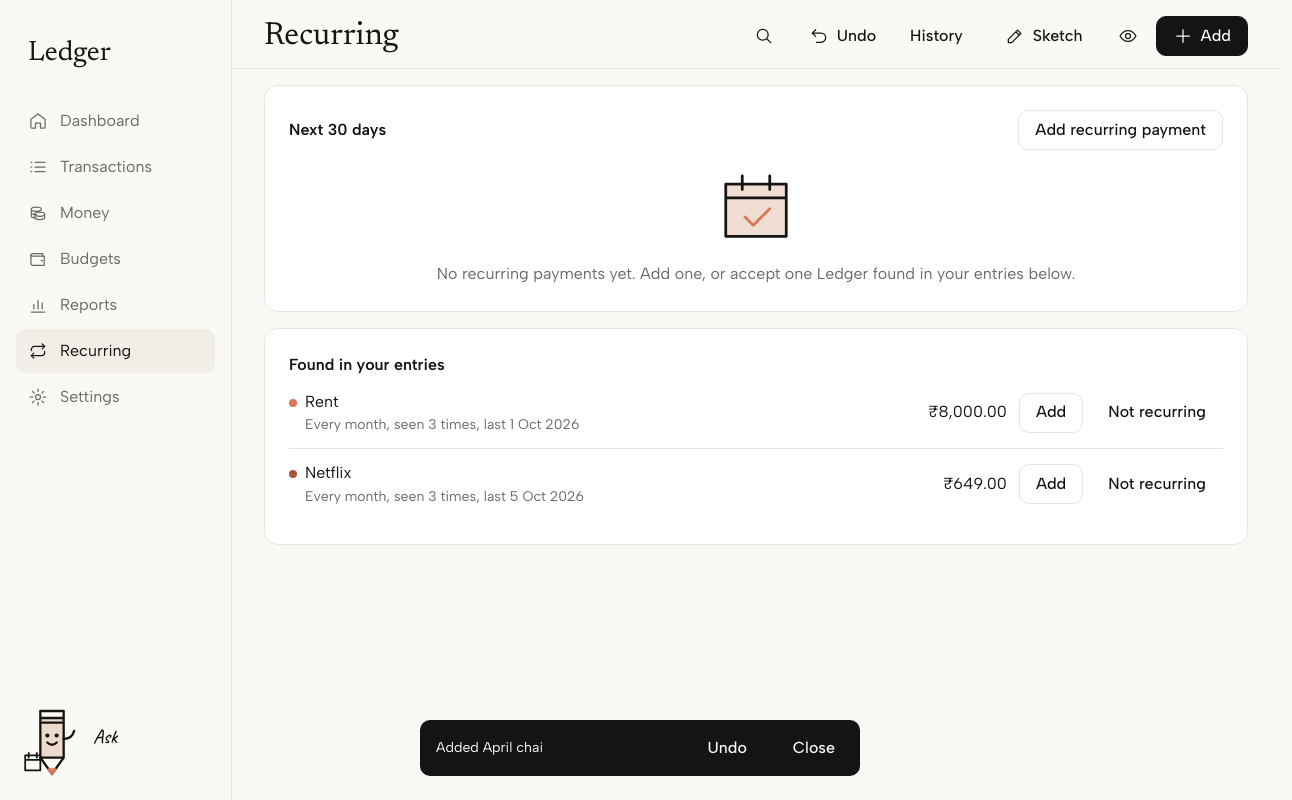
Scenario: recurring › stops suggesting a merchant marked not recurring
Click the button "Not recurring" in the row of "Rent" at (1157, 413), box [1091,393,1223,433]
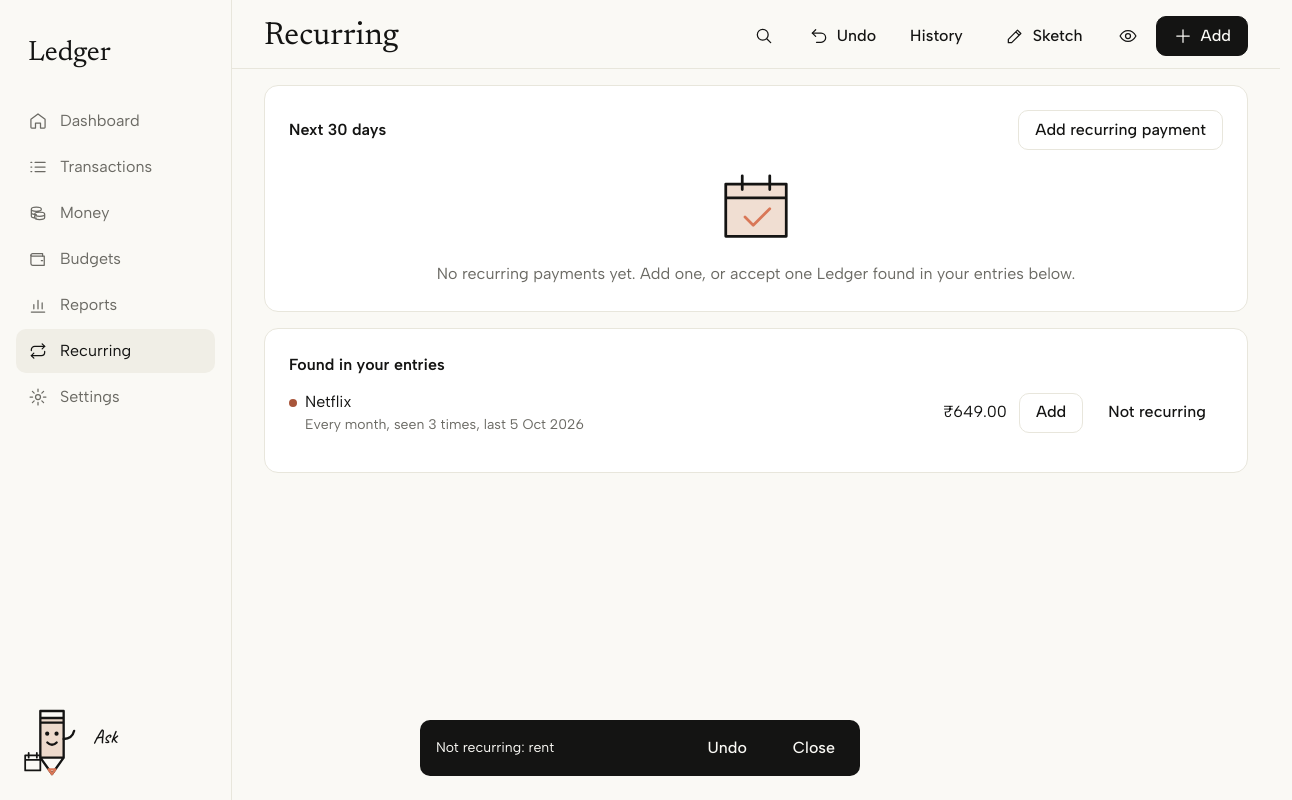
Check: the list item with test id "candidate-rent" is gone
